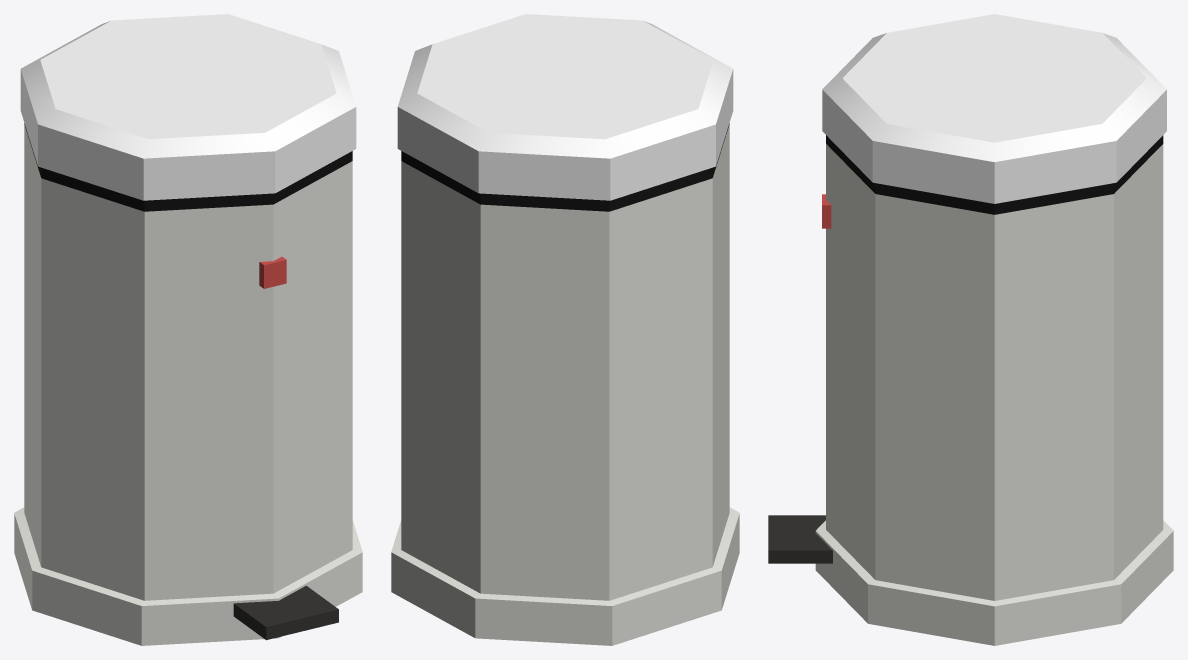
File: DustBin_2.fbx
3 views of the same model, side by side, from view 1: azimuth 30°, elevation 25°; view 2: azimuth 150°, elevation 25°; view 3: azimuth 270°, elevation 25° (orthographic).
Visible parts, largest first — view 1: polySurface2338; view 2: polySurface2338; view 3: polySurface2338.
Part boxes in pixels (x1=…): polySurface2338: x1=14, y1=14, x2=362, y2=645; polySurface2338: x1=391, y1=14, x2=739, y2=645; polySurface2338: x1=768, y1=14, x2=1173, y2=645.
Size of the model in its own units: 0.5096 by 0.7722 by 0.577.
1 material, 1 textured.
